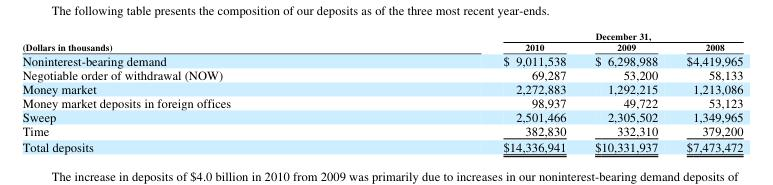table: (21, 29, 742, 154)
table column: (21, 29, 366, 154), (366, 29, 579, 154), (579, 29, 671, 154), (671, 29, 742, 154)
table column header: (21, 29, 742, 52)
table row: (21, 137, 742, 154), (21, 122, 742, 137), (21, 52, 742, 66), (21, 66, 742, 80), (21, 80, 742, 94), (21, 94, 742, 108), (21, 108, 742, 122), (21, 29, 742, 41), (21, 41, 742, 52)
table spanning cell: (21, 29, 366, 52), (366, 29, 742, 41)
